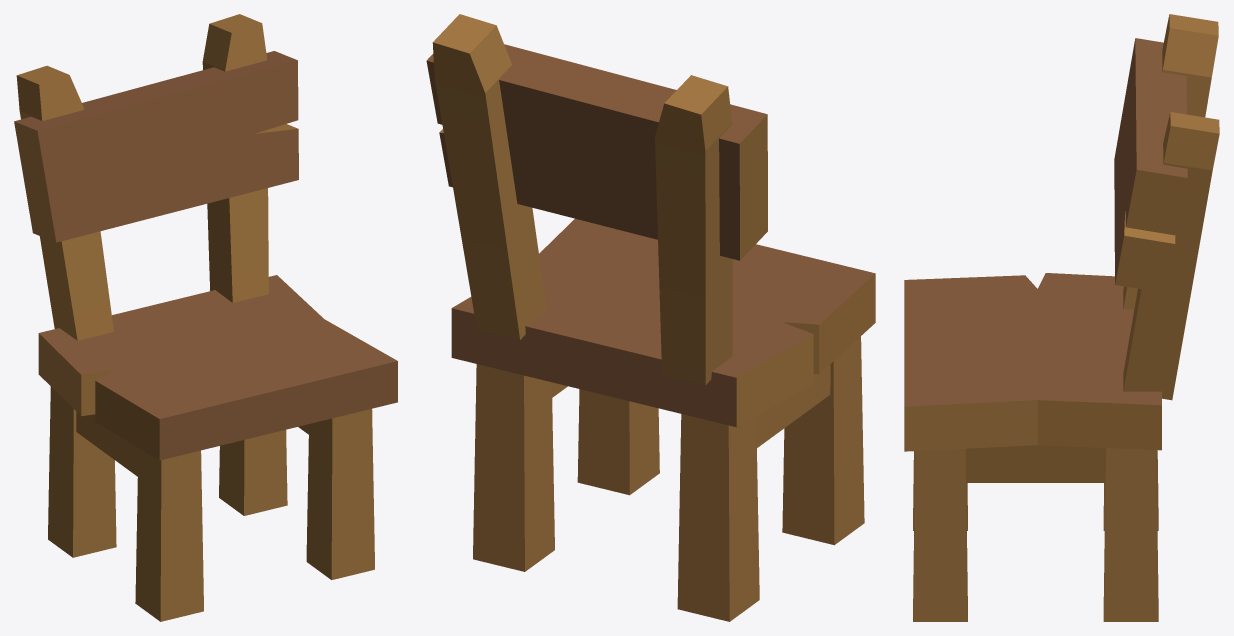
The model's file is fantasy_chair-wood.fbx.
3 views of the same model, side by side, from view 1: azimuth 30°, elevation 25°; view 2: azimuth 150°, elevation 25°; view 3: azimuth 270°, elevation 25° (orthographic). The views are drawn at different scales.
Parts seen in each view (by area): view 1: fantasy_chair_wood; view 2: fantasy_chair_wood; view 3: fantasy_chair_wood.
Boxes of the visible parts, x1,y1,x2,y2 form: fantasy_chair_wood: [14, 14, 397, 621]; fantasy_chair_wood: [426, 14, 875, 621]; fantasy_chair_wood: [904, 14, 1219, 621].
Bounding box in the file's own units: 119 × 200 × 115.
